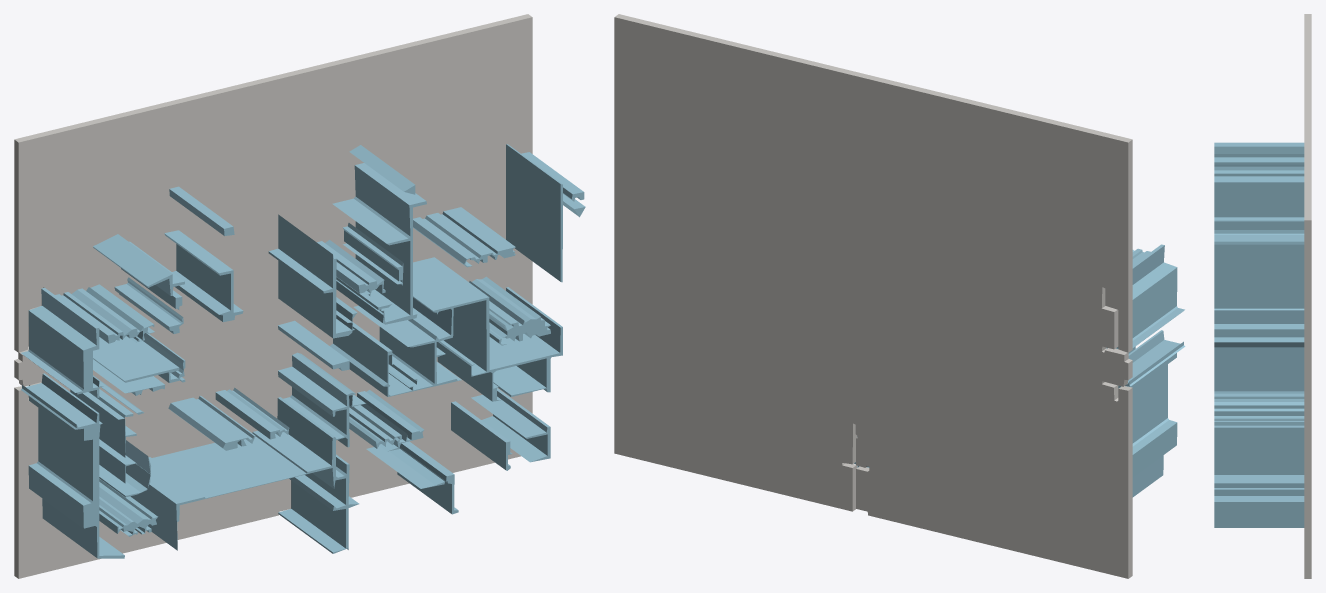
3 renders of one model, left to right at view 1: azimuth 30°, elevation 25°; view 2: azimuth 150°, elevation 25°; view 3: azimuth 270°, elevation 25°, orthographic. The views are drawn at different scales.
Visible parts, largest first — view 1: world; view 2: world; view 3: world.
Boxes of the visible parts, <box> form: world: <box>14,14,585,578</box>; world: <box>614,14,1185,578</box>; world: <box>1214,14,1311,578</box>.
Size of the model in its own units: 10.23 by 8.3 by 2.04.
